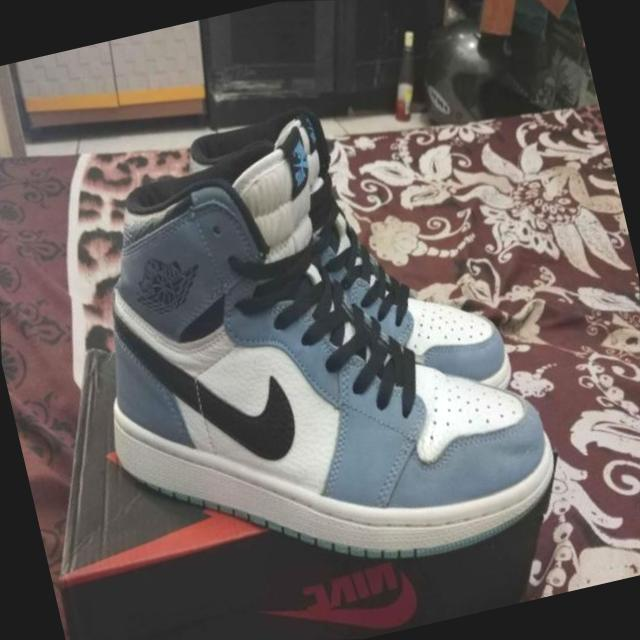nike_fake_jordan: (22, 36, 638, 640), (132, 39, 570, 459)
